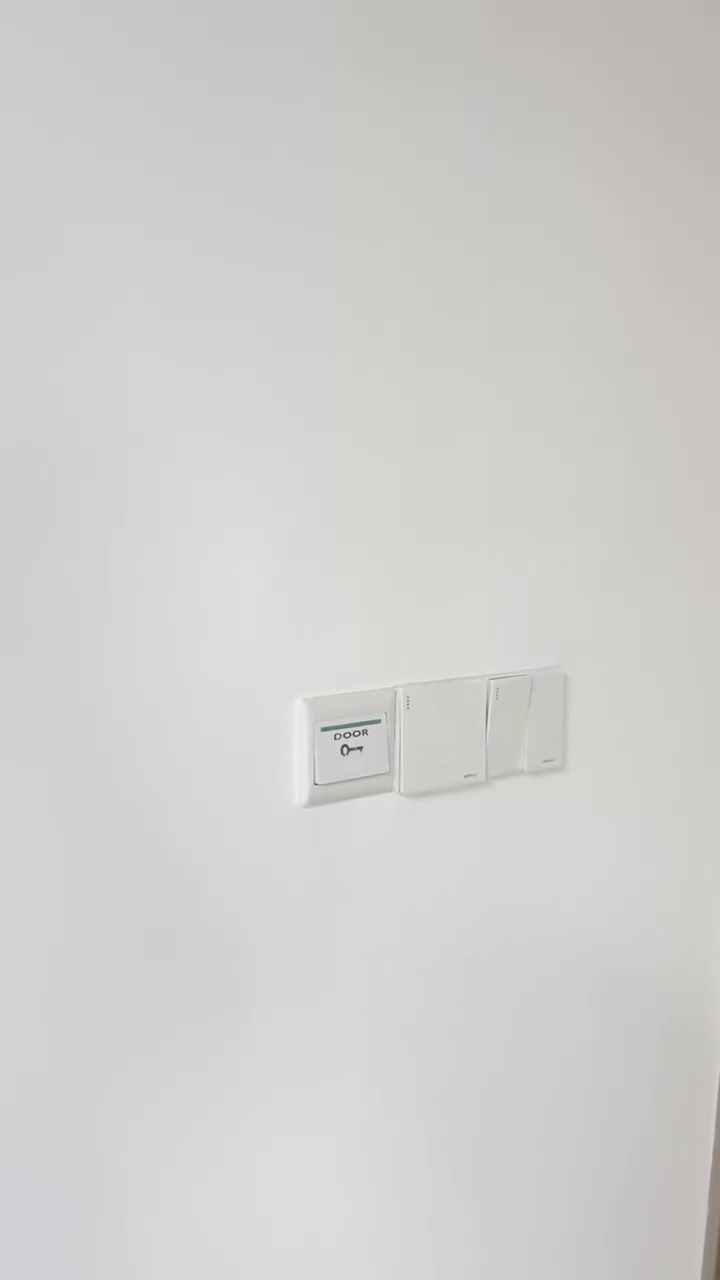button: (393, 679, 488, 793), (481, 667, 569, 779)
